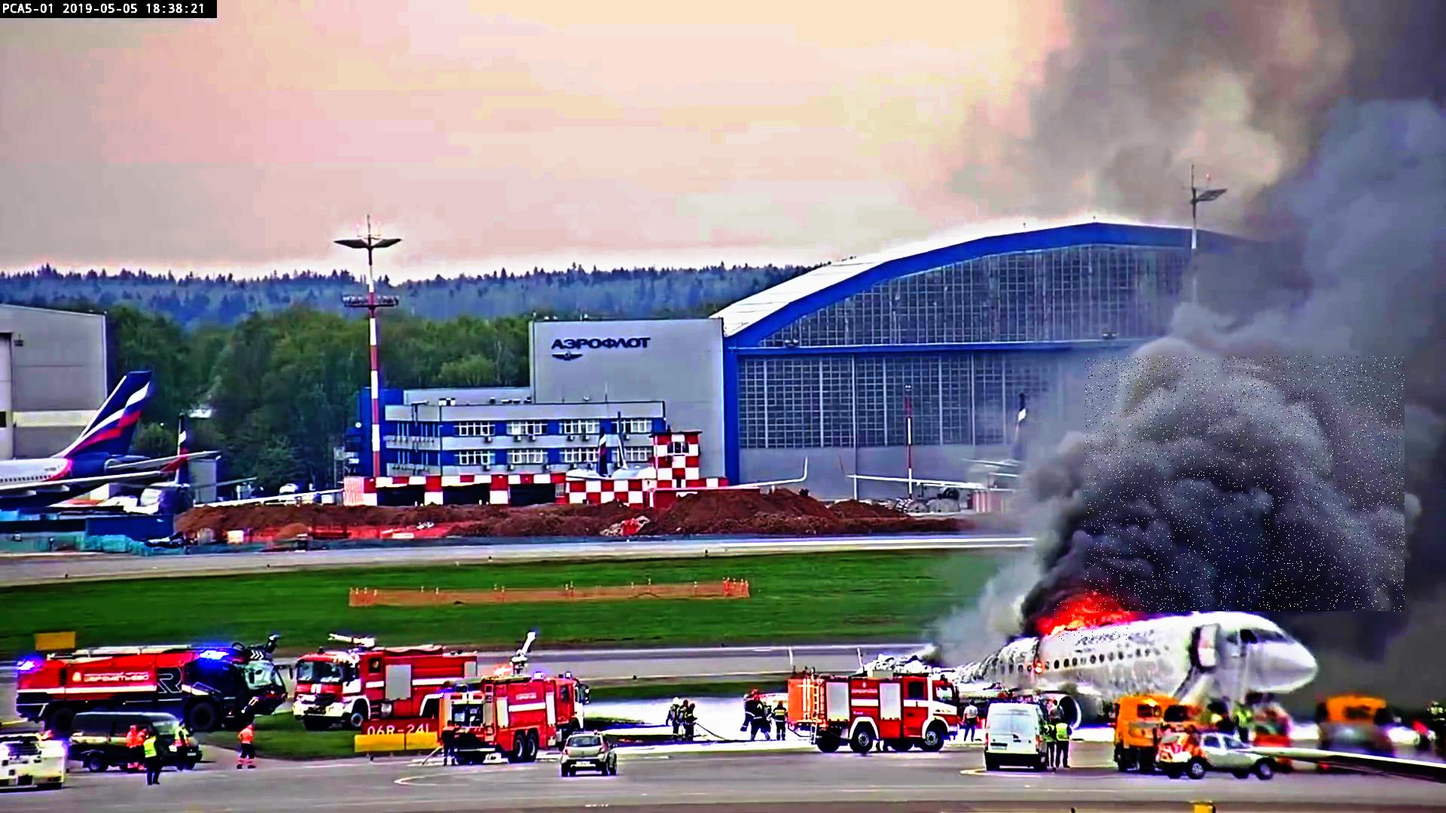fire: (1055, 603, 1128, 643)
smoke: (1085, 356, 1405, 611)
